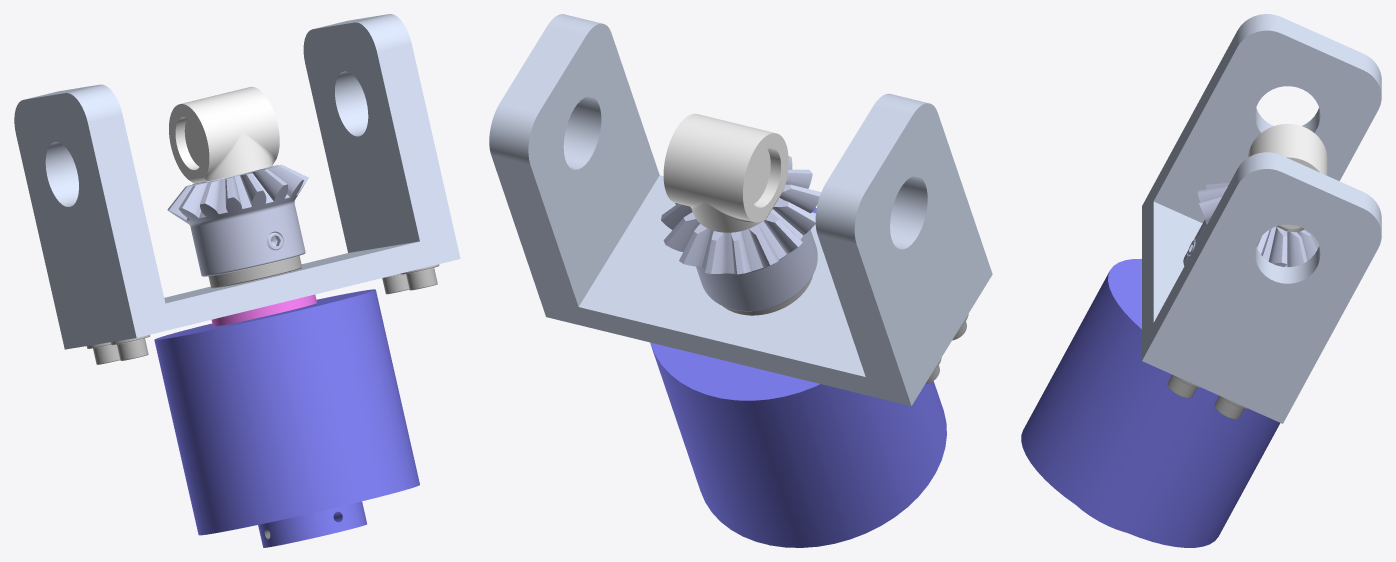
The model's file is Diff Wrist Beginning.glb.
The picture shows the model from 3 angles, left to right: view 1: azimuth 30°, elevation 25°; view 2: azimuth 150°, elevation 25°; view 3: azimuth 270°, elevation 25°; orthographic projection. The views are drawn at different scales.
Visible parts, largest first — view 1: Diff Wrist Beginning; view 2: Diff Wrist Beginning; view 3: Diff Wrist Beginning.
Boxes of the visible parts, left/top/right/bottom form: Diff Wrist Beginning: left=14, top=14, right=460, bottom=547; Diff Wrist Beginning: left=489, top=14, right=992, bottom=547; Diff Wrist Beginning: left=1021, top=14, right=1381, bottom=547.
Bounding box in the file's own units: 0.0889 × 0.1167 × 0.0874.
